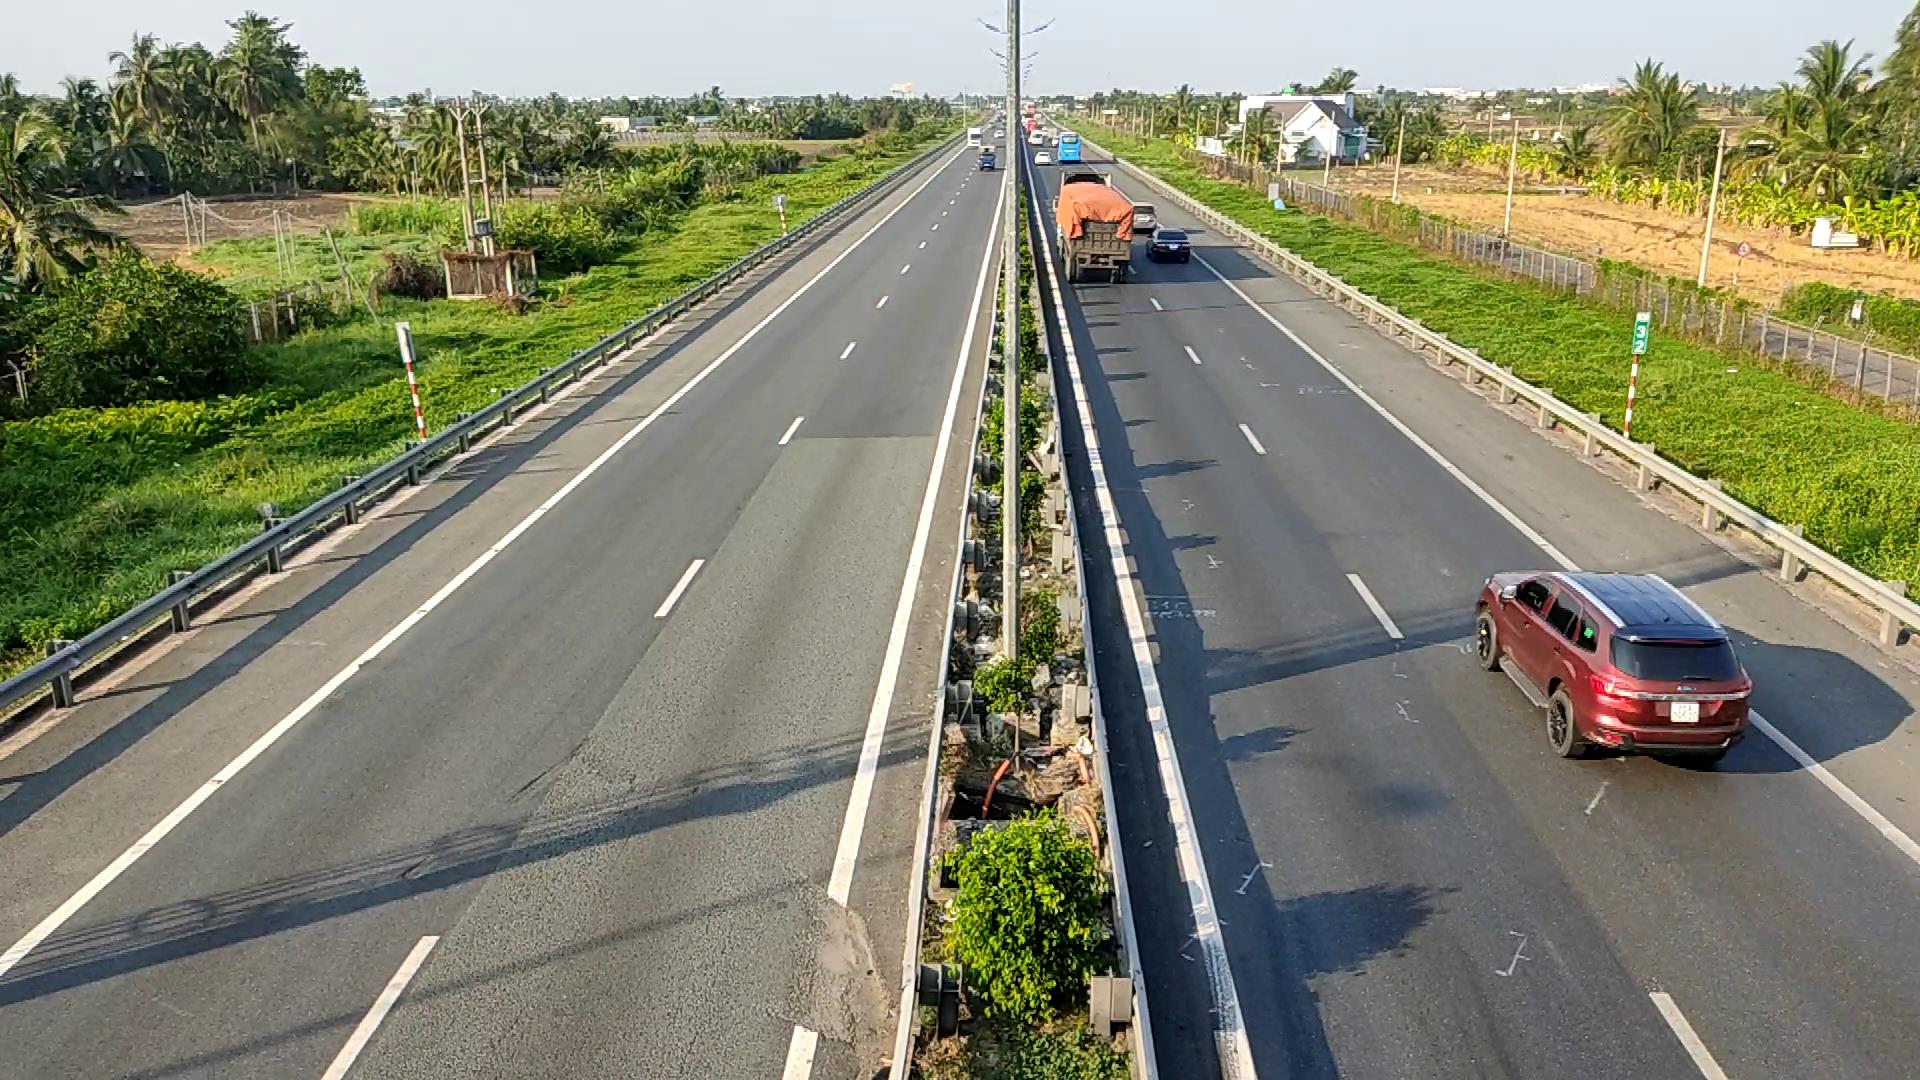car: (1472, 567, 1753, 764), (1147, 227, 1191, 264)
truck: (1055, 175, 1135, 284)
